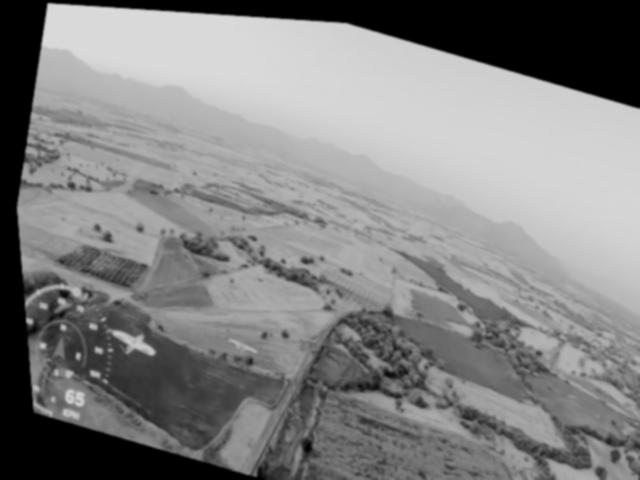hedef: (213, 325, 261, 362)
